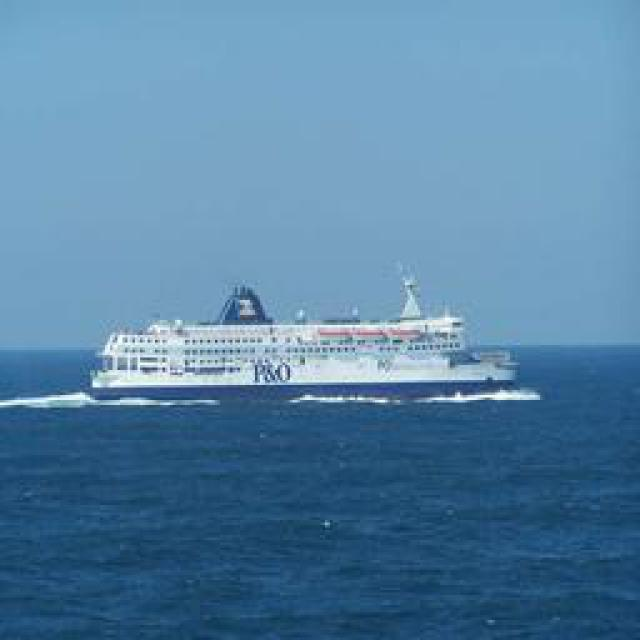Ship: (82, 274, 522, 399)
